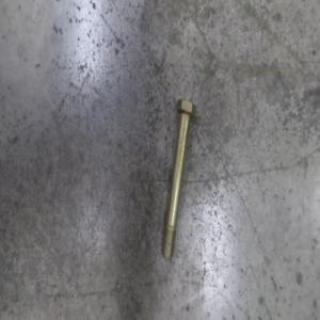Bolttrack_idkeyframe: (160, 96, 196, 261)
